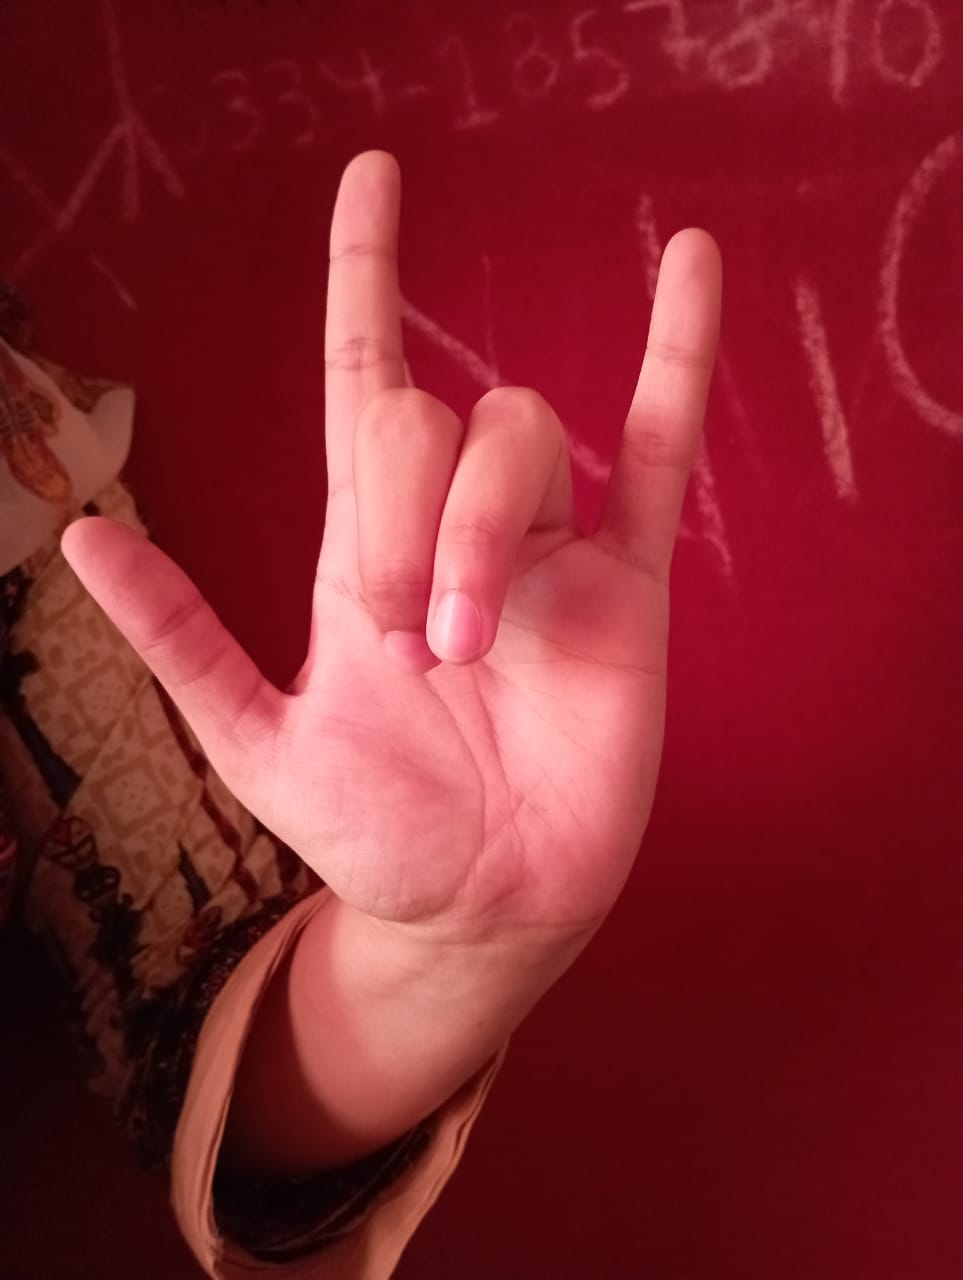Loved It: (52, 138, 732, 968)
